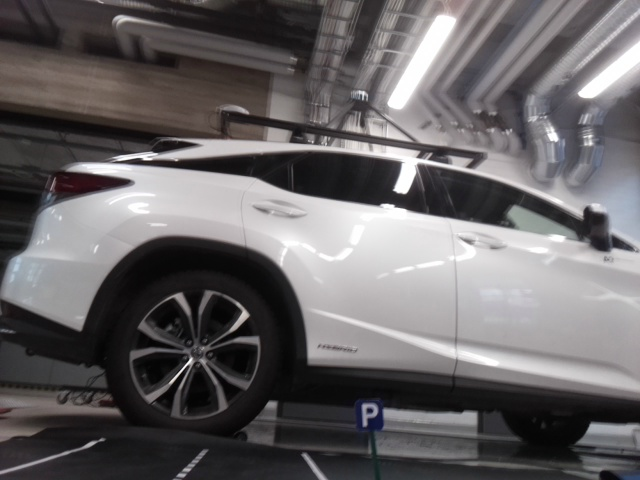Parking: (354, 399, 383, 431)
